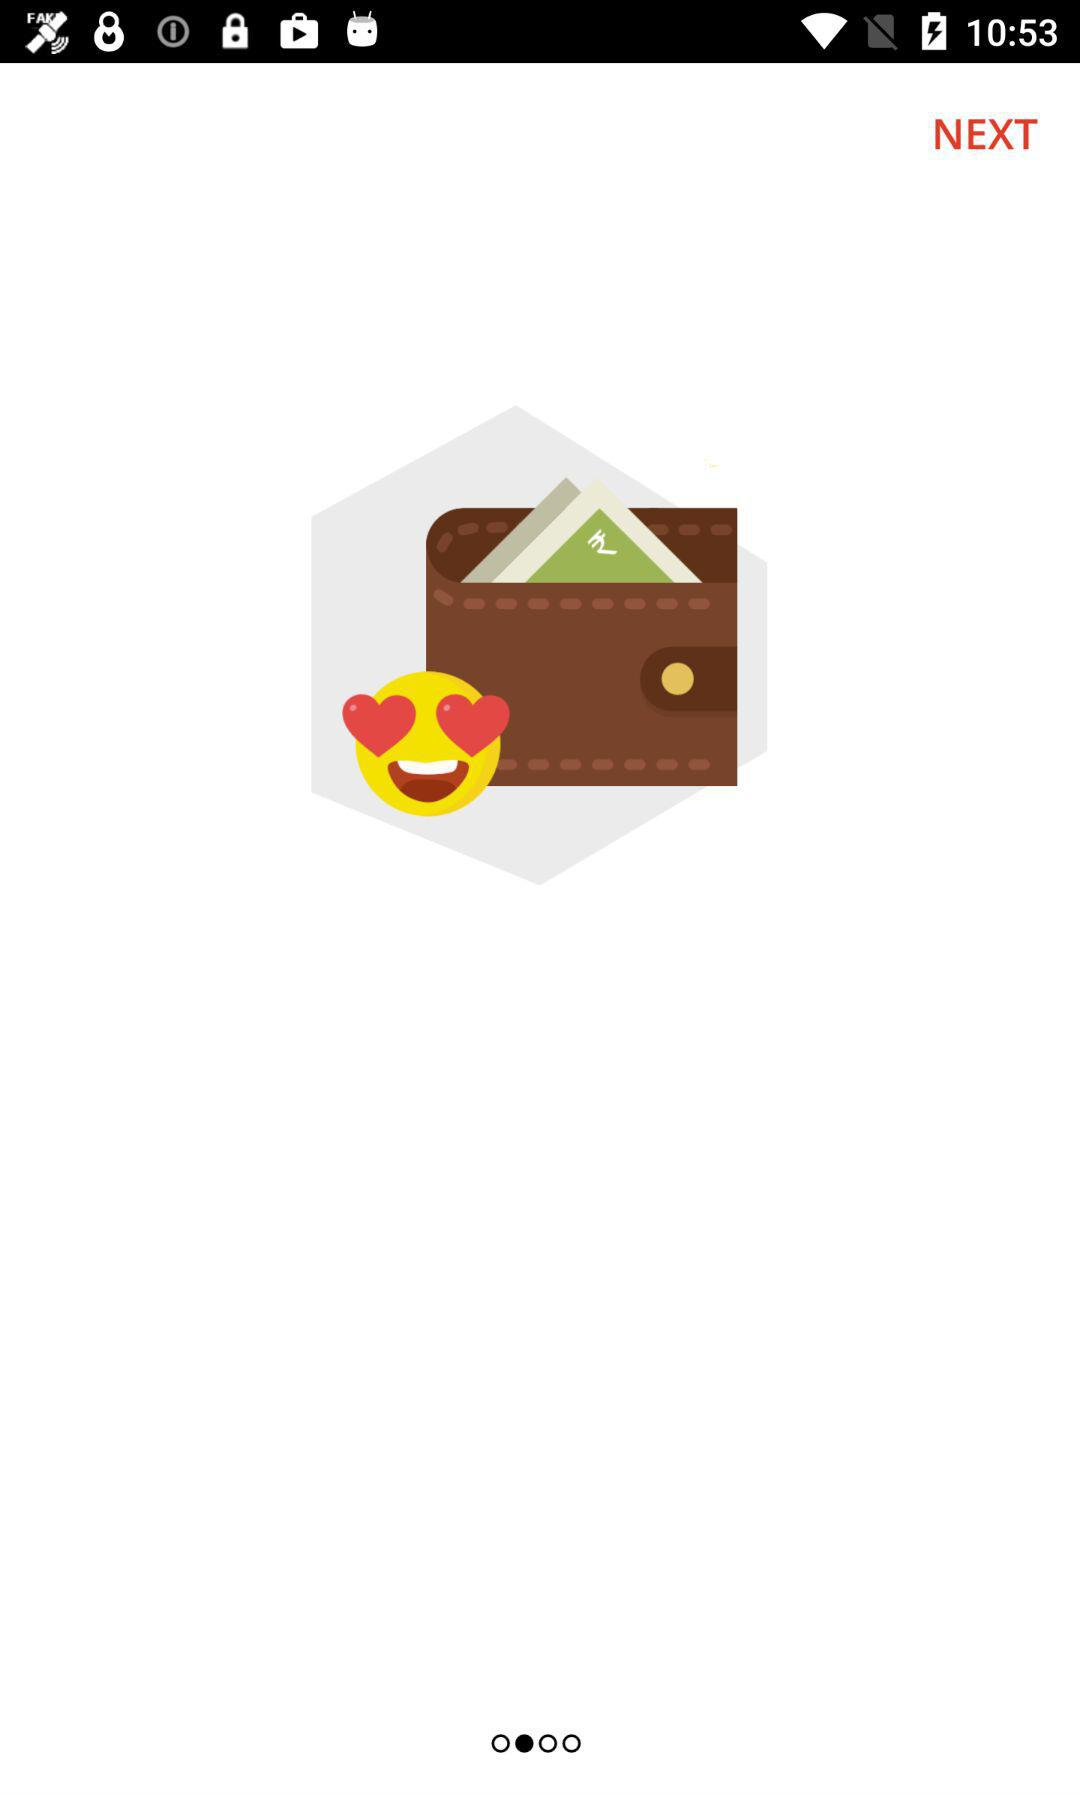Image: (311, 405, 767, 885)
PageIndicator: (491, 1732, 582, 1754)
Text: (934, 119, 1039, 151)
UpperTaskBar: (1, 1, 1080, 64)
